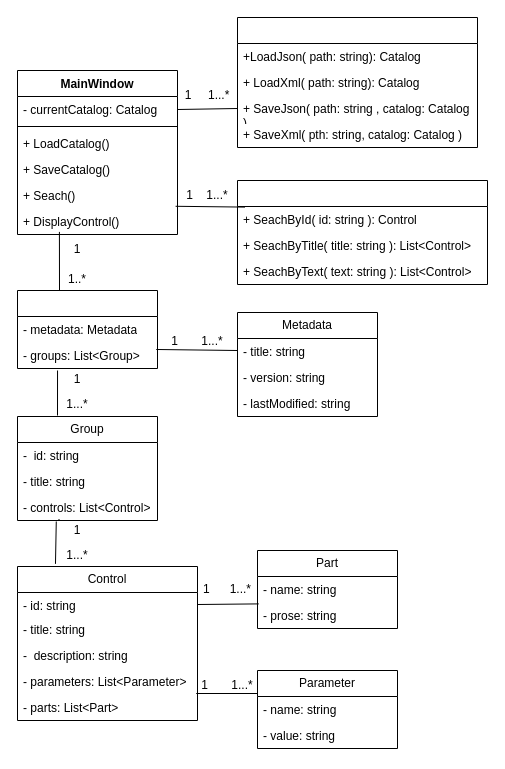
Some shapes in this 505 by 769 pixel diagram are drawn without their labels. Each missing label, with the box of its shape:
Catalog: (16, 290, 158, 368)
OscalParser: (236, 16, 478, 148)
SearchService: (236, 180, 488, 284)
